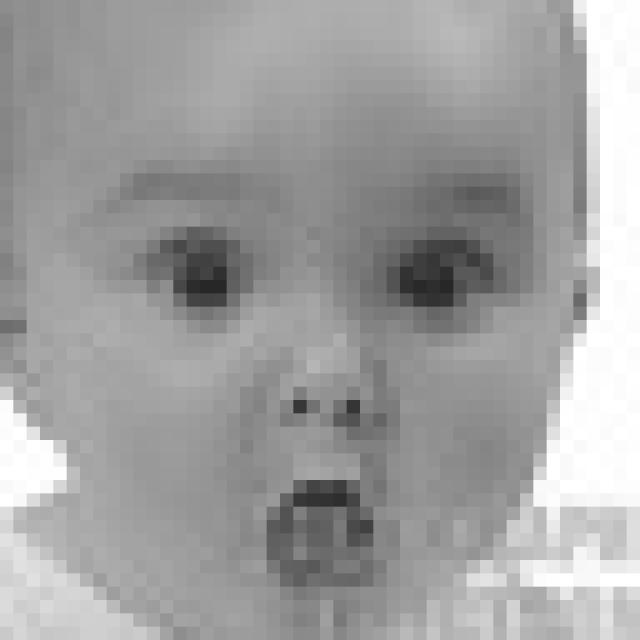surprise: (93, 157, 541, 592)
